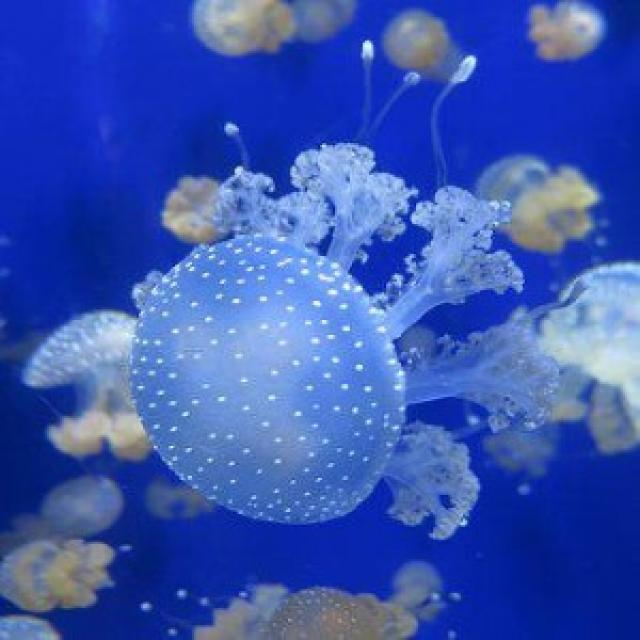Jellyfish: (82, 167, 579, 512), (24, 300, 150, 443), (537, 258, 640, 422), (478, 146, 608, 264), (360, 0, 470, 84), (514, 0, 626, 71), (181, 1, 282, 68)
